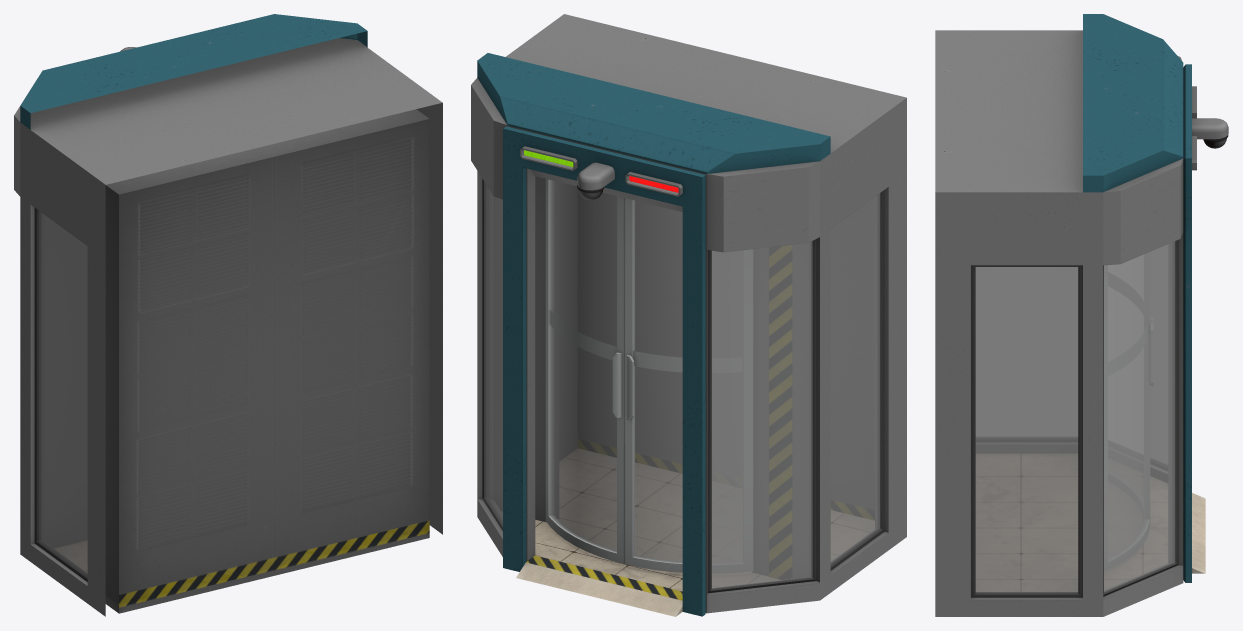
File: Airlock.fbx
3 views of the same model, side by side, from view 1: azimuth 30°, elevation 25°; view 2: azimuth 150°, elevation 25°; view 3: azimuth 270°, elevation 25° (orthographic). The views are drawn at different scales.
Visible parts, largest first — view 1: Airlock2, AirlockGlass; view 2: Airlock2, AirlockGlass; view 3: Airlock2, AirlockGlass.
Boxes of the visible parts, bbox=[...] form: Airlock2: bbox=[14, 14, 442, 616]; AirlockGlass: bbox=[38, 211, 87, 575]; Airlock2: bbox=[471, 14, 906, 616]; AirlockGlass: bbox=[484, 180, 880, 588]; Airlock2: bbox=[935, 14, 1228, 616]; AirlockGlass: bbox=[975, 241, 1175, 592].
Size of the model in its own units: 243 by 309 by 186.
